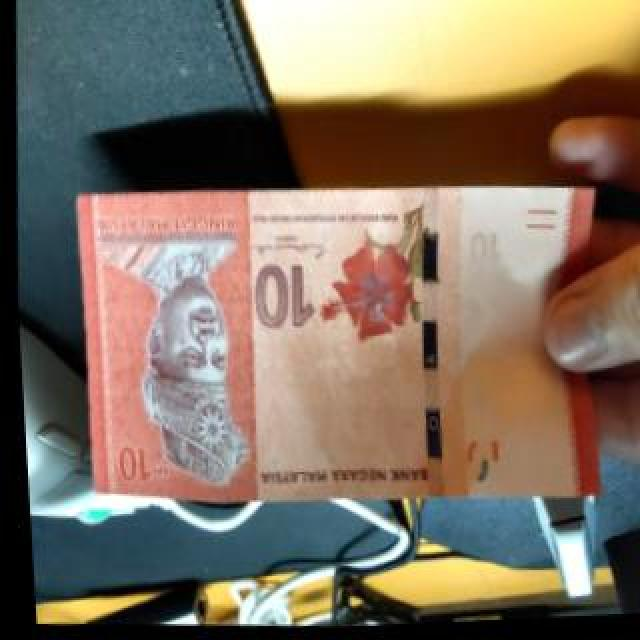10 Ringgit: (48, 160, 616, 527)
